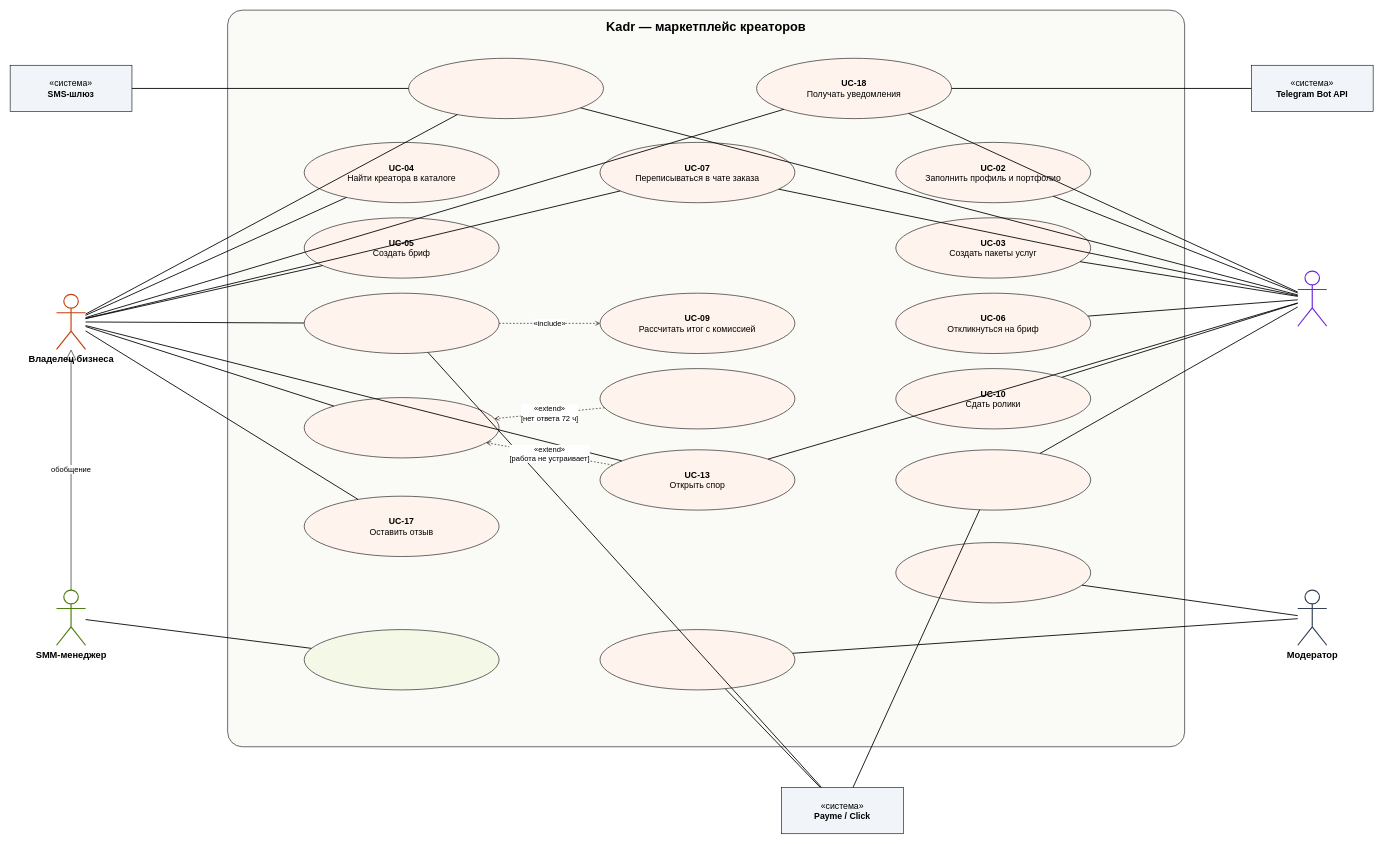
Some shapes in this 1383 by 844 pixel diagram are drawn without their labels. Each missing label, with the centre of its shape:
"UC-01 Войти по SMS-коду" goes at point 505,88.
"UC-08 Оплатить заказ с удержанием" goes at point 401,323.
"UC-11 Принять работу или запросить правки" goes at point 401,427.
"UC-12 Автоприёмка через 72 ч" goes at point 697,398.
"UC-14 Решить спор" goes at point 697,659.
"UC-15 Получить выплату" goes at point 993,479.
"UC-16 Проверить профиль креатора" goes at point 993,572.
"UC-19 · Could Вести заказы нескольких брендов" goes at point 401,659.
"Креатор" goes at point 1312,298.
